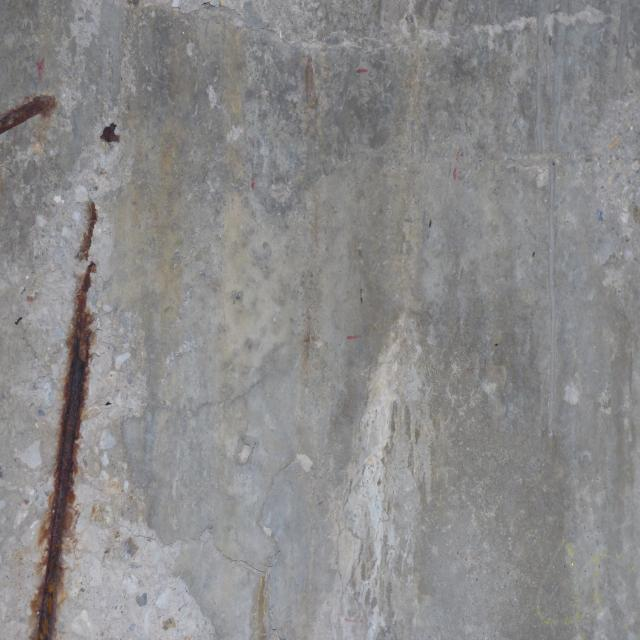corrosion: (10, 181, 136, 640), (0, 70, 70, 141), (87, 115, 129, 157)
